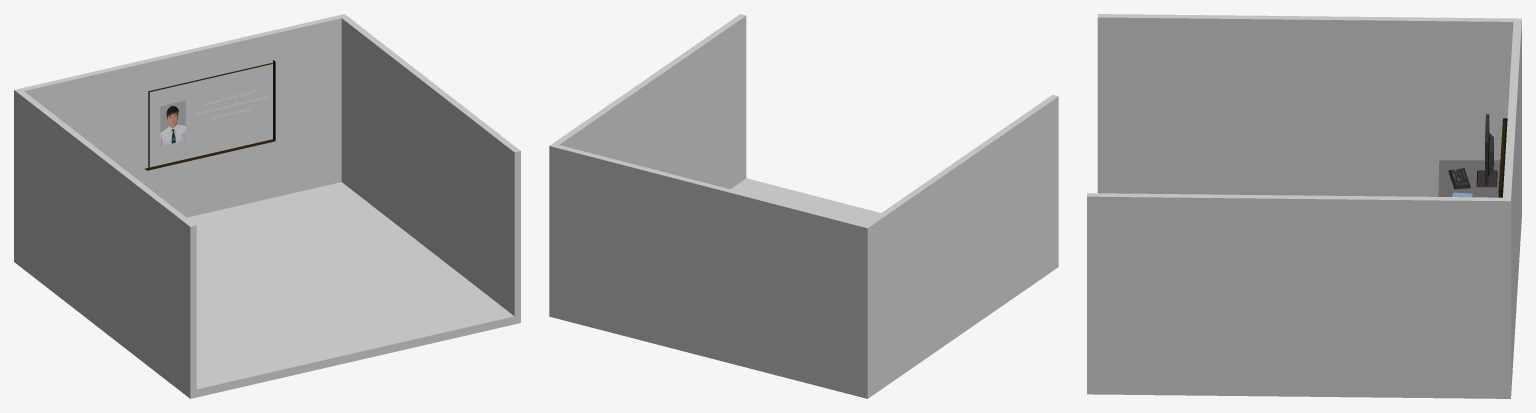
The model's file is Garage1-02.glb.
3 renders of one model, left to right at view 1: azimuth 30°, elevation 25°; view 2: azimuth 150°, elevation 25°; view 3: azimuth 270°, elevation 25°, orthographic. The views are drawn at different scales.
Visible parts, largest first — view 1: Plane, Plane.001, Plane.003; view 2: Plane; view 3: Plane, Desk, Plane.001.
Part boxes in pixels (box(x1,y1,x2,y2)): Plane: box(14, 14, 520, 398); Plane.001: box(145, 60, 275, 170); Plane.003: box(160, 100, 185, 146); Plane: box(549, 14, 1058, 398); Plane: box(1087, 14, 1521, 398); Desk: box(1438, 114, 1500, 197); Plane.001: box(1498, 118, 1507, 197).
Size of the model in its own units: 10.66 by 5.25 by 10.46.
Materials: 7 (5 with a texture image).
